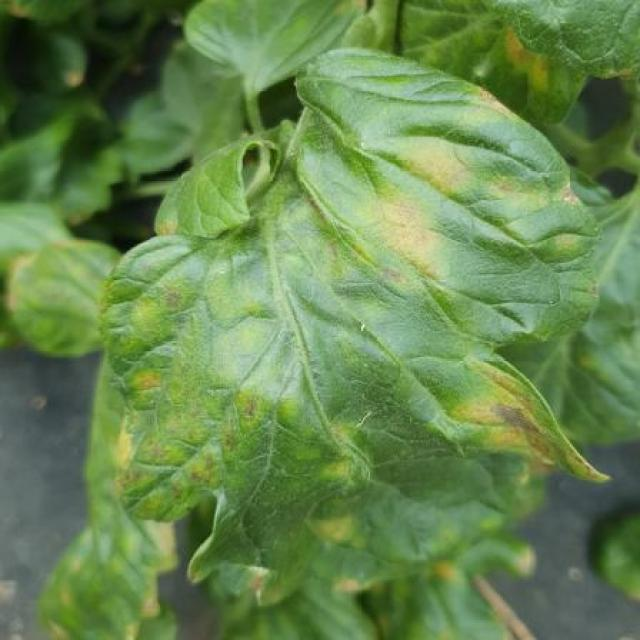Leaf Mold: (99, 44, 611, 604)
